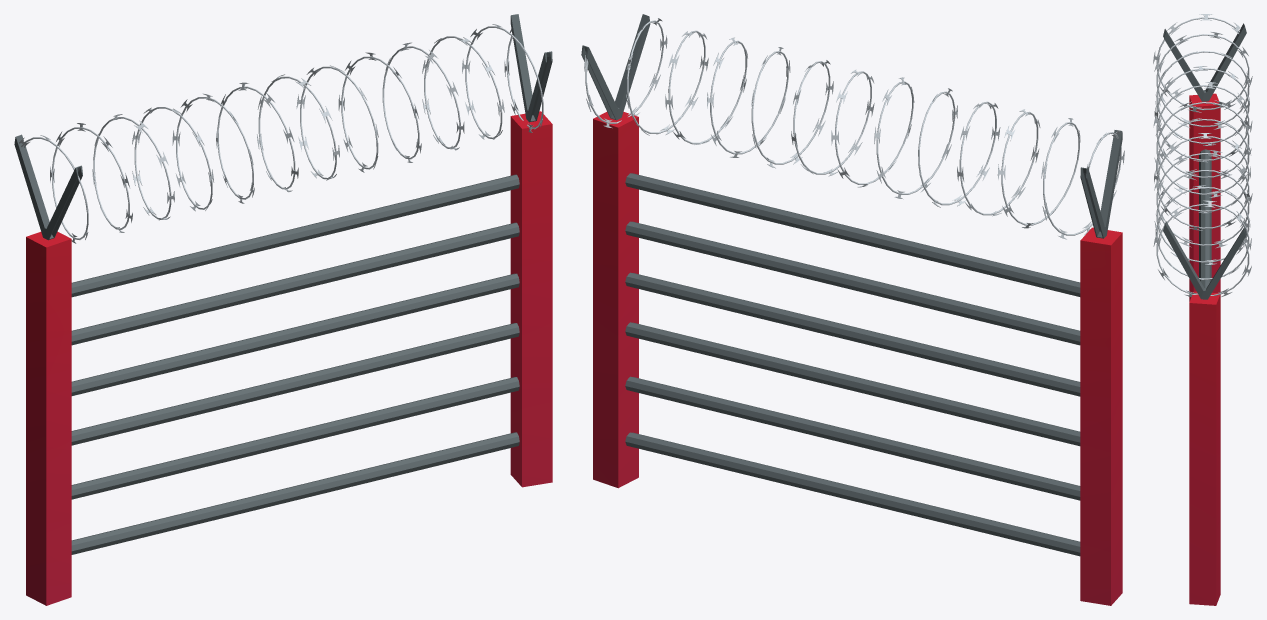
Rendered from Obs_BarbWire.fbx.
3 views of the same model, side by side, from view 1: azimuth 30°, elevation 25°; view 2: azimuth 150°, elevation 25°; view 3: azimuth 270°, elevation 25° (orthographic). The views are drawn at different scales.
Parts seen in each view (by area): view 1: Obs_BarbWire; view 2: Obs_BarbWire; view 3: Obs_BarbWire.
Boxes of the visible parts, x1=… form: Obs_BarbWire: x1=14, y1=14, x2=552, y2=605; Obs_BarbWire: x1=581, y1=14, x2=1124, y2=605; Obs_BarbWire: x1=1153, y1=14, x2=1252, y2=605.
Size of the model in its own units: 199 by 170 by 39.6.
Materials: 1 (1 with a texture image).
